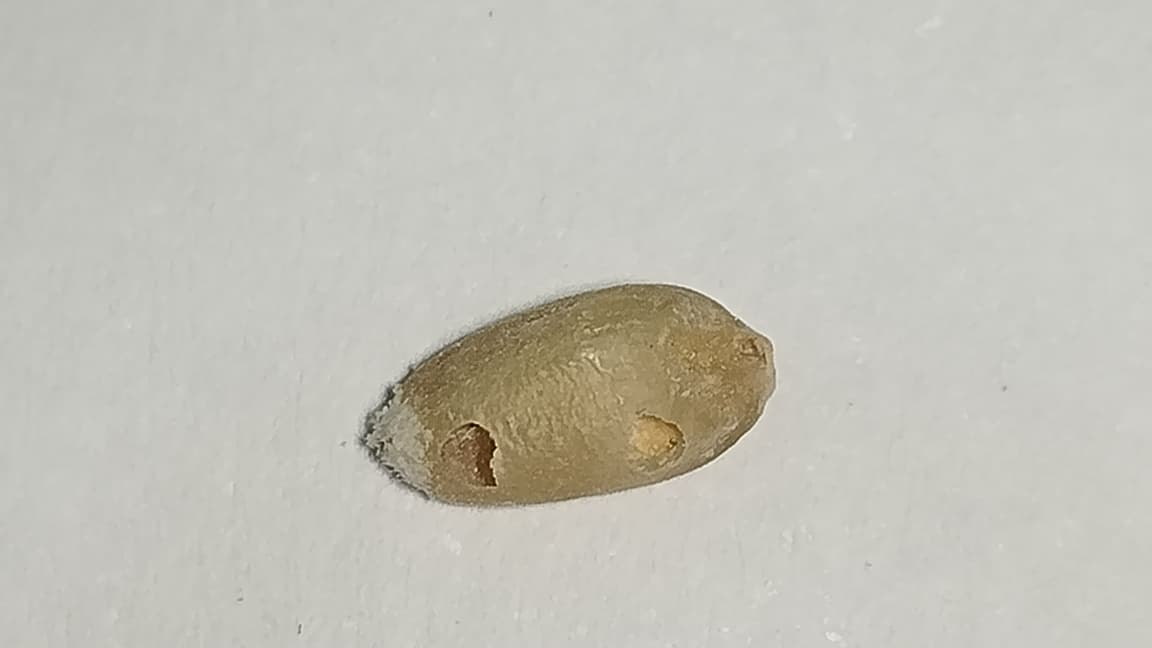damage: (359, 278, 774, 507)
insectdamage: (677, 277, 790, 447), (439, 422, 497, 487), (627, 411, 684, 470)
